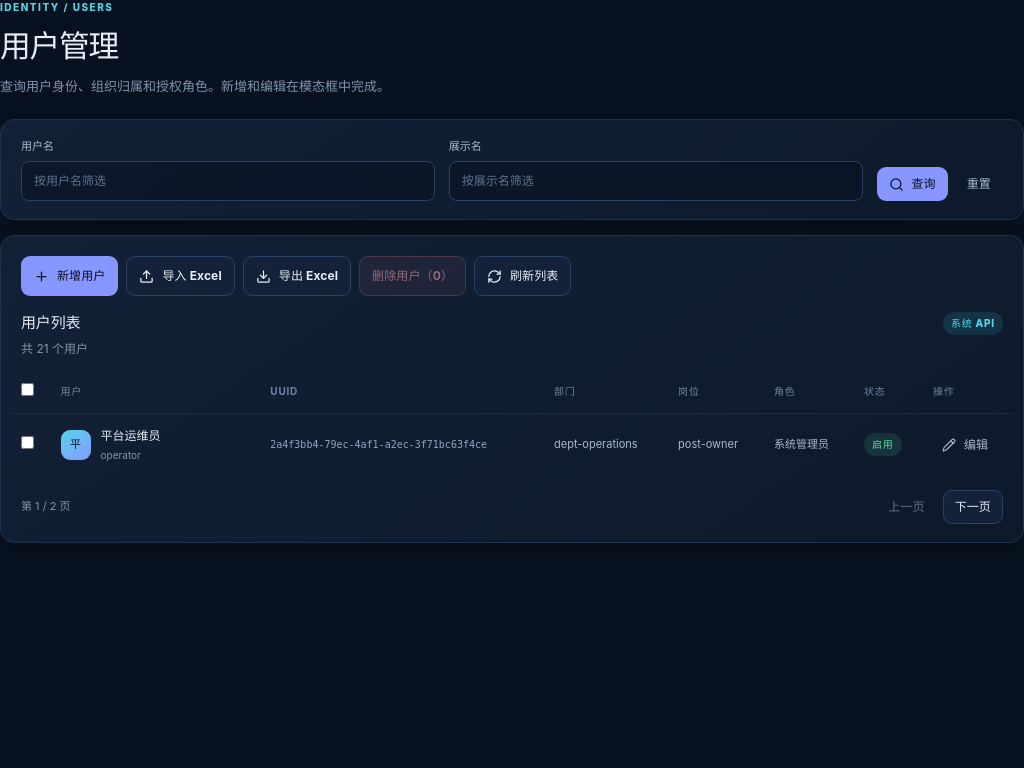
Test: UsersPage › 确认后批量删除当前页用户
Expected: the text "平台运维员" is shown, [100,427,160,445]
Click the checkbox named "选择用户 operator".
click(28, 442)  # box [21,436,34,449]
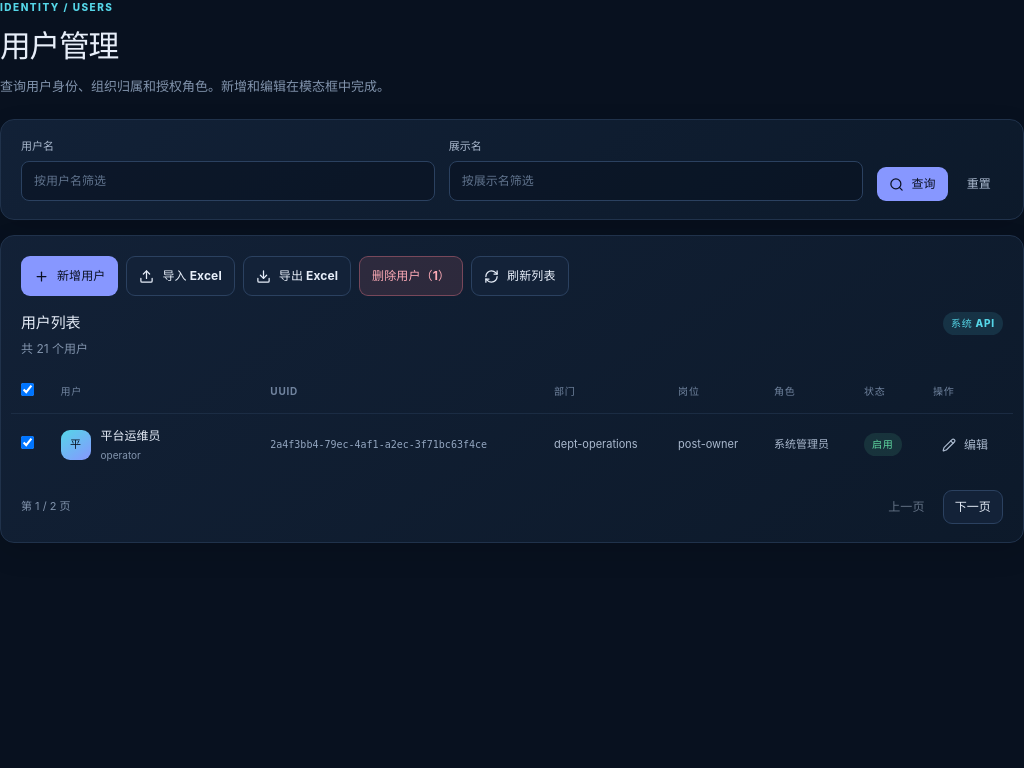
Click the button "删除用户（1）".
click(411, 276)  # box [359,256,463,296]
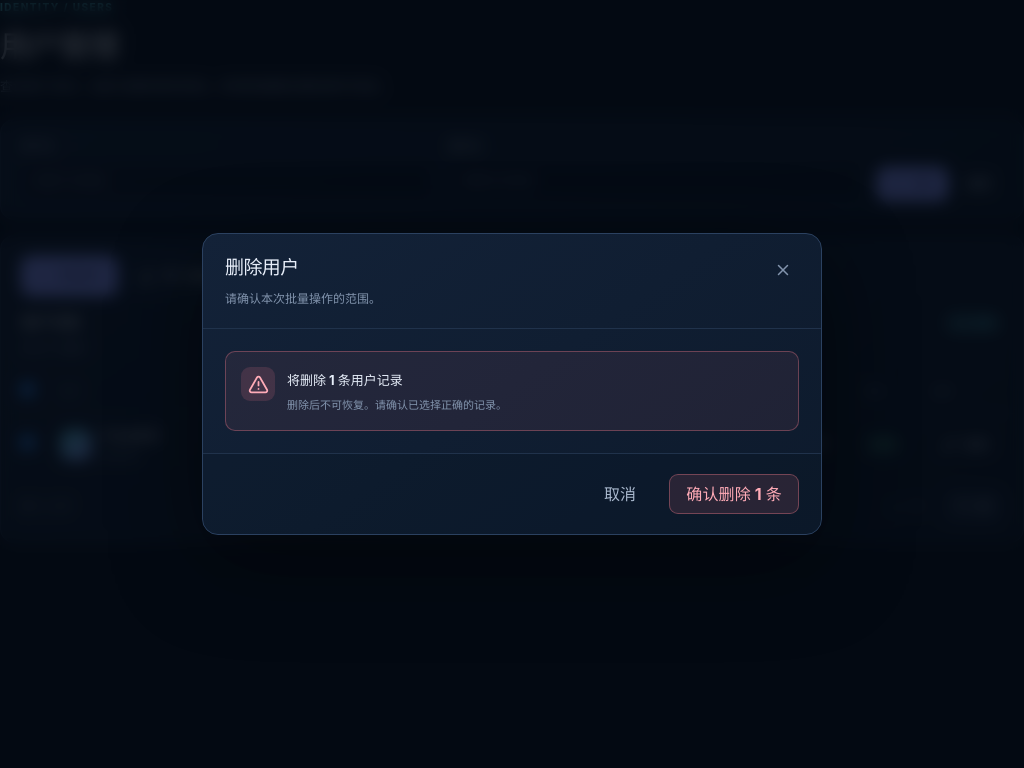
Now the text "删除后不可恢复。请确认已选择正确的记录。" is shown, box [287,397,507,415]
Click the button "确认删除 1 条".
click(734, 494)  # box [669,474,799,514]
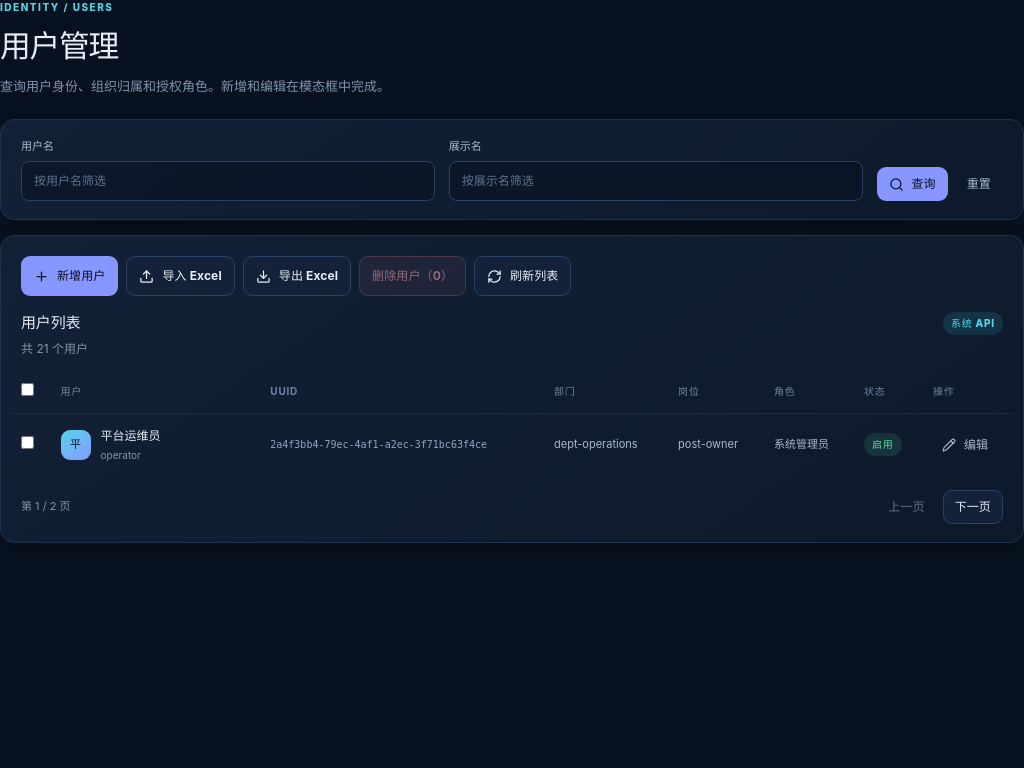
Now the dialog is gone
